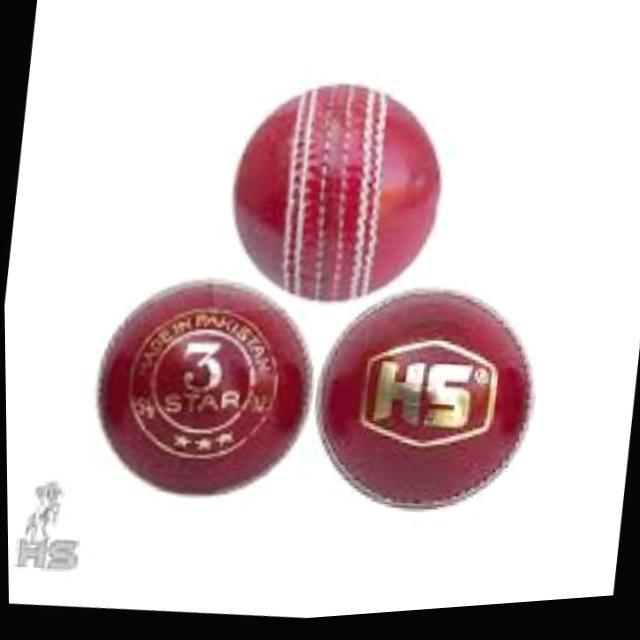-: (314, 290, 600, 534), (85, 263, 312, 523), (210, 74, 443, 316)
